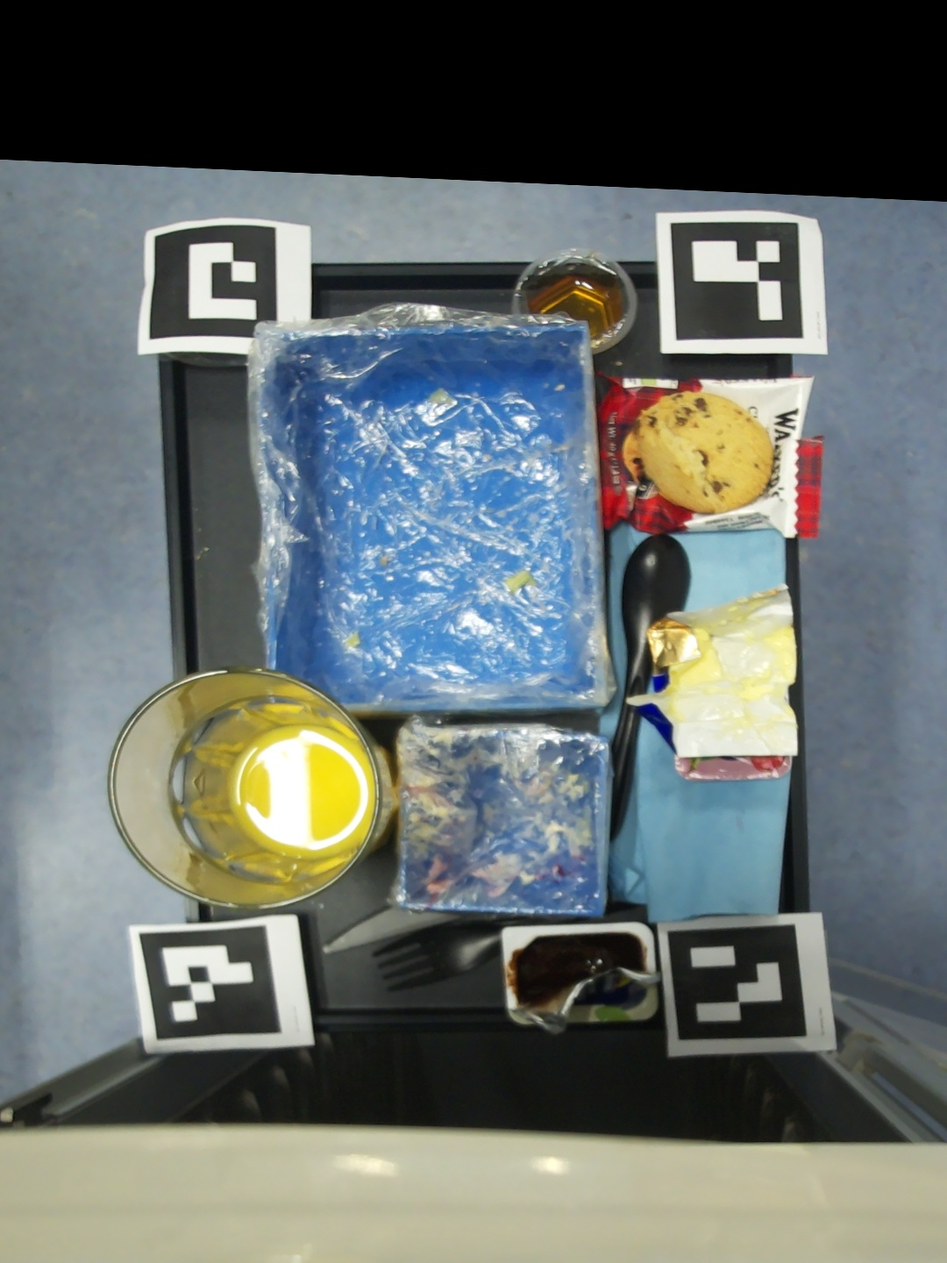butter: (627, 583, 798, 757)
cherry_jam: (674, 755, 792, 780)
cookie: (595, 370, 825, 539)
honey: (512, 247, 637, 354)
orange_juice_bottle: (109, 667, 398, 907)
plum_jam: (501, 921, 660, 1035)
wrap_half_1: (505, 570, 536, 591), (428, 387, 450, 404), (345, 633, 359, 647)
